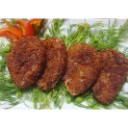cutlet: (8, 39, 43, 88), (65, 43, 99, 93), (95, 50, 126, 102), (39, 38, 65, 90)
